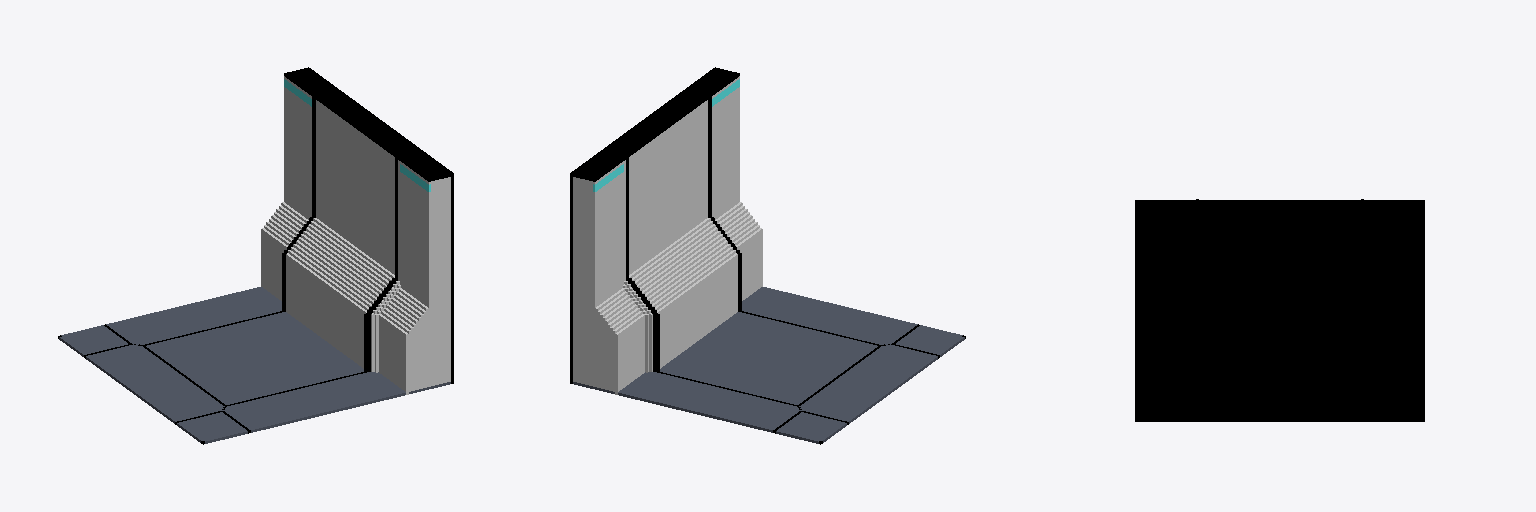
3 renders of one model, left to right at view 1: azimuth 30°, elevation 25°; view 2: azimuth 150°, elevation 25°; view 3: azimuth 270°, elevation 25°, orthographic.
Parts seen in each view (by area): view 1: object 1; view 2: object 1; view 3: object 1.
Boxes of the visible parts, <box> form: object 1: <box>58,67,453,444</box>; object 1: <box>570,67,965,444</box>; object 1: <box>1135,199,1424,421</box>.
Bounding box in the file's own units: 10 × 8 × 10.
Materials: 1 (1 with a texture image).